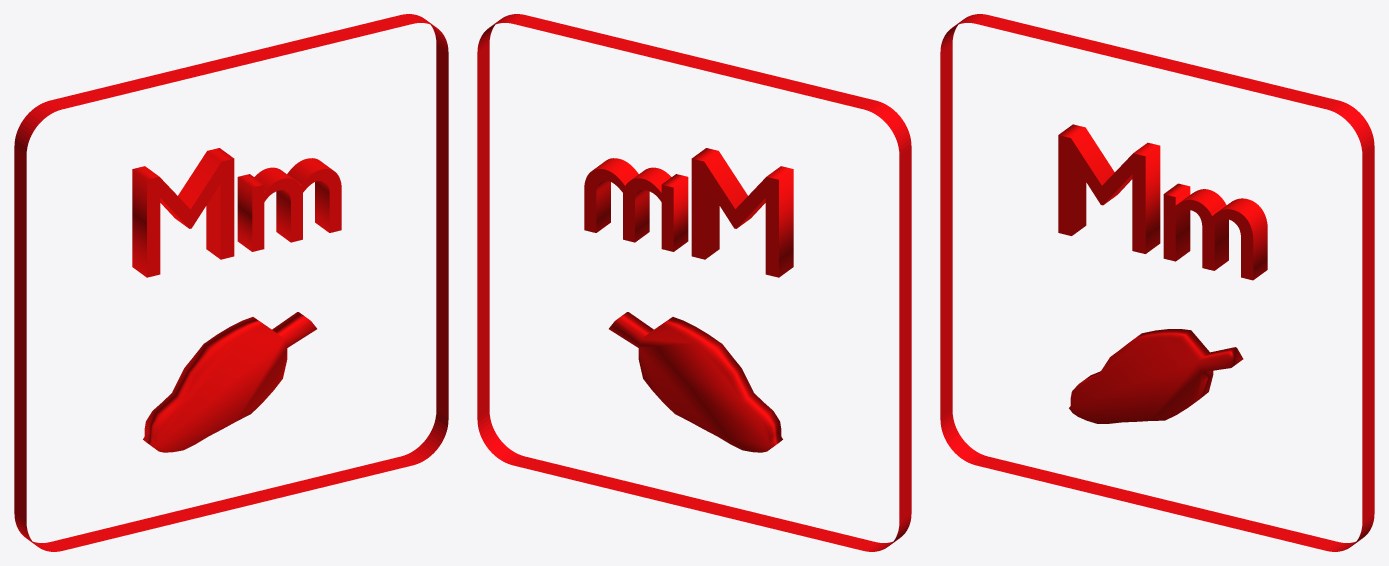
Rendered from Letter_M.glb.
3 views of the same model, side by side, from view 1: azimuth 30°, elevation 25°; view 2: azimuth 150°, elevation 25°; view 3: azimuth 330°, elevation 25° (orthographic).
Parts seen in each view (by area): view 1: Cube, Text, Cylinder; view 2: Cube, Text, Cylinder; view 3: Cube, Text, Cylinder.
Part boxes in pixels (x1,y1,x2,y2): Cube: (14,14,448,551); Text: (132,148,341,277); Cylinder: (143,312,316,452); Cube: (477,14,911,551); Text: (584,148,793,277); Cylinder: (609,312,782,452); Cube: (940,14,1374,551); Text: (1058,124,1267,280); Cylinder: (1069,329,1243,423).
Bounding box in the file's own units: 2 × 2 × 0.12.
